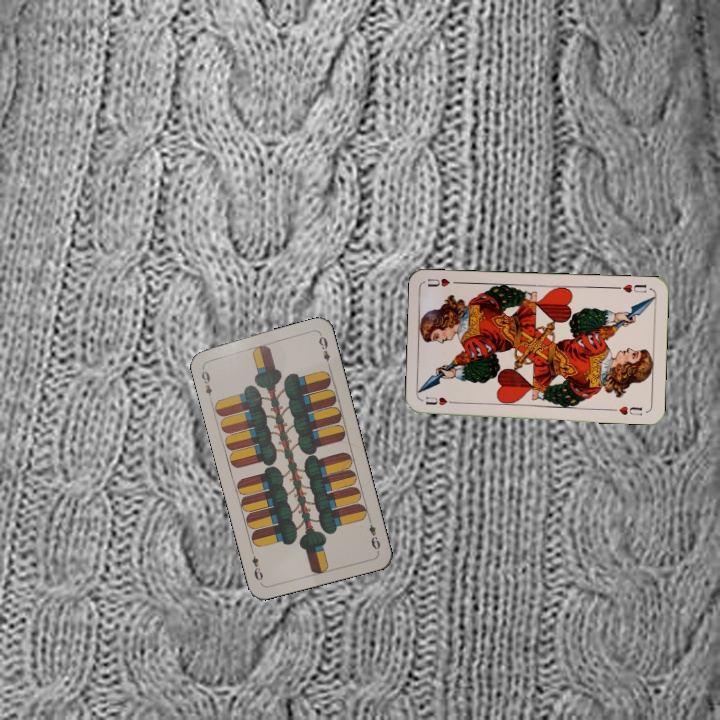E9: (197, 362, 215, 403), (364, 514, 383, 552)
HU: (422, 393, 460, 408), (612, 280, 649, 295)
